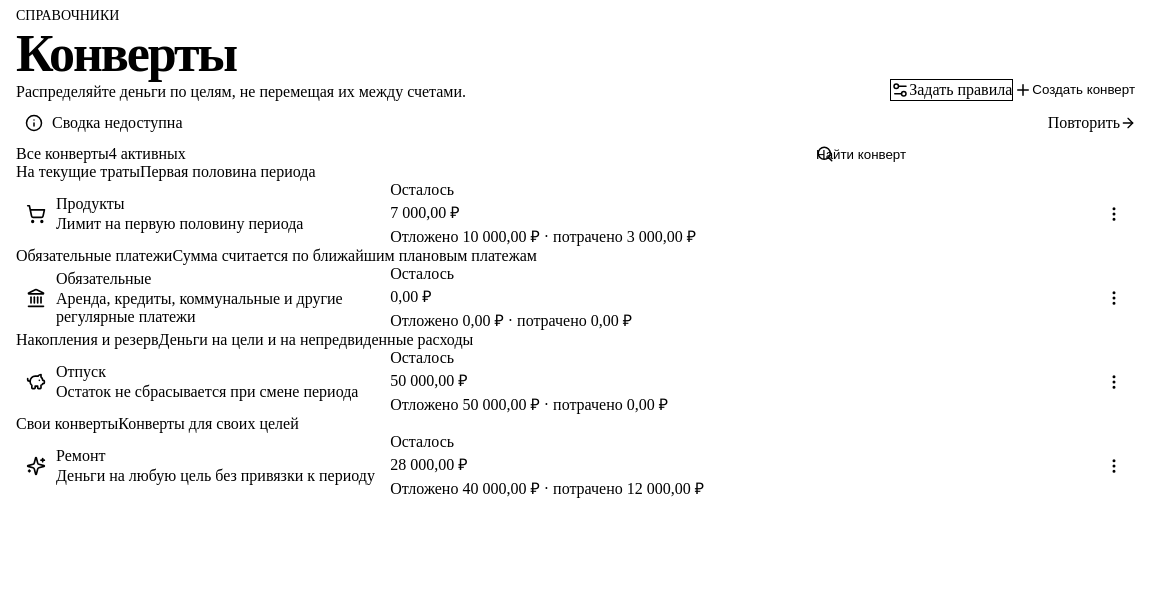
envelopes page, plan model v2 › ошибка сводки не ломает список
Check: the element with test id "envelope-row-env-repair" is shown, box [16,433,1136,499]
Click the button "Повторить" at coordinates (1092, 123), box [1048,101,1136,145]
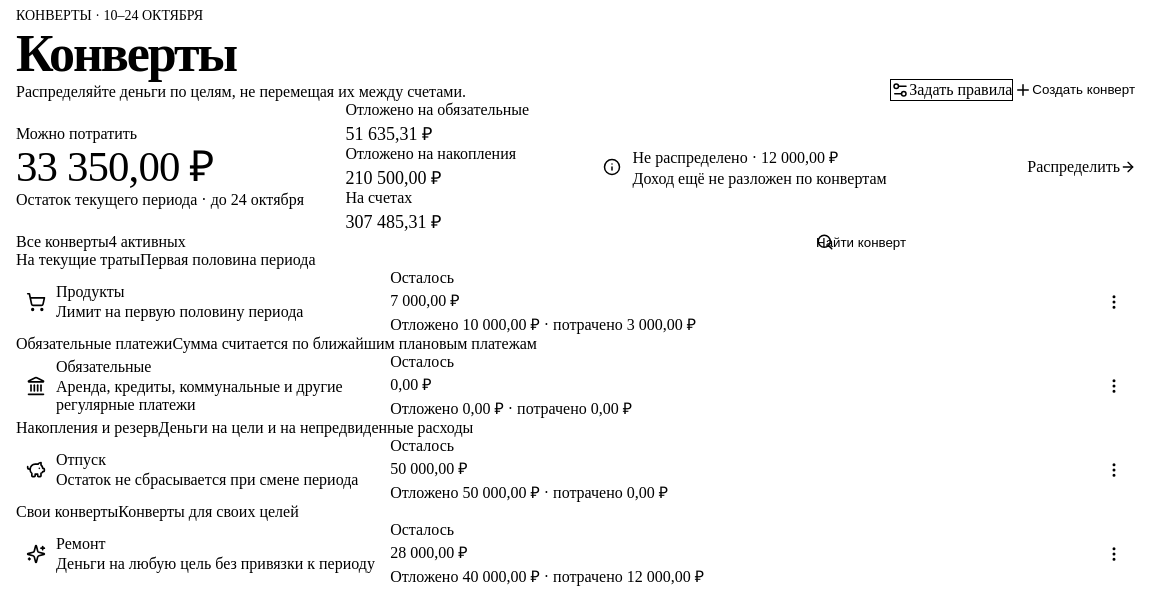
Check: the text "Сводка недоступна" is gone
Check: the element with test id "summary-free" is shown, box [592,145,1136,189]
